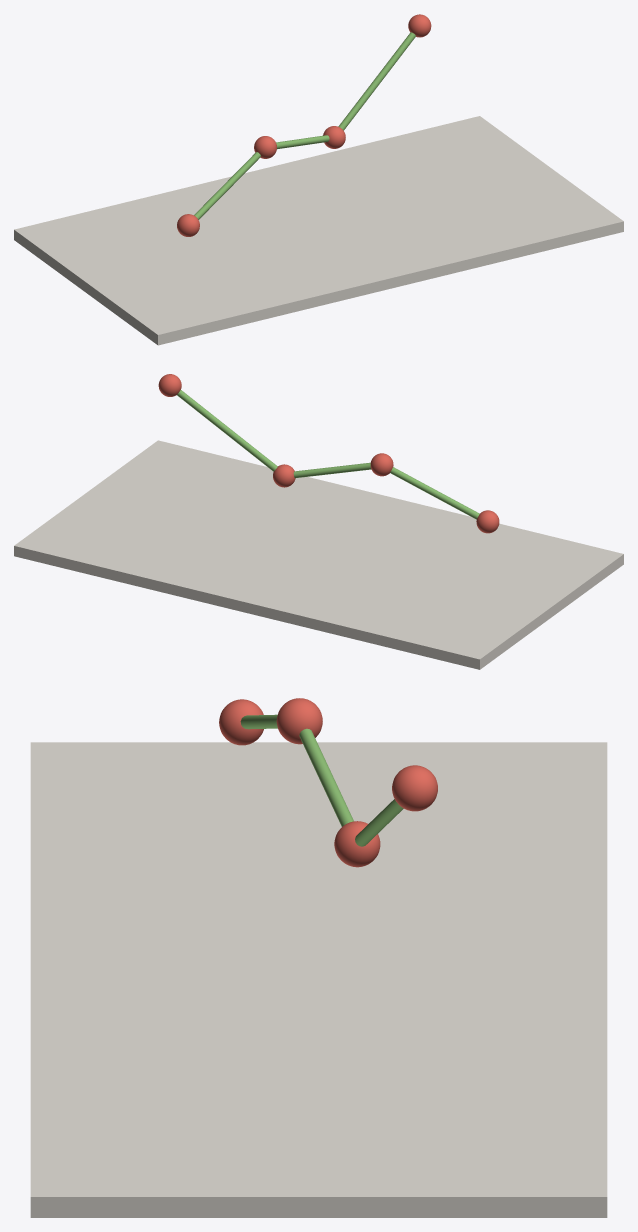
The model's file is math-data-line-graph.glb.
3 renders of one model, top to bottom at view 1: azimuth 30°, elevation 25°; view 2: azimuth 150°, elevation 25°; view 3: azimuth 270°, elevation 25°, orthographic. The views are drawn at different scales.
Parts seen in each view (by area): view 1: manipulative-base, trend-segment-3, trend-segment-1; view 2: manipulative-base, trend-segment-3, trend-segment-1, trend-segment-2, data-dot-1, data-dot-2, data-dot-4, data-dot-3; view 3: manipulative-base, data-dot-4, data-dot-2, trend-segment-2, data-dot-3, data-dot-1, trend-segment-3.
Part boxes in pixels (<box>): manipulative-base: <box>14,116,623,345</box>; trend-segment-3: <box>338,32,415,130</box>; trend-segment-1: <box>194,152,260,219</box>; manipulative-base: <box>14,440,623,669</box>; trend-segment-3: <box>177,390,277,471</box>; trend-segment-1: <box>390,467,479,519</box>; trend-segment-2: <box>293,462,371,478</box>; data-dot-1: <box>476,510,499,533</box>; data-dot-2: <box>370,453,393,476</box>; data-dot-4: <box>158,374,181,396</box>; data-dot-3: <box>273,464,295,487</box>; manipulative-base: <box>30,742,607,1217</box>; data-dot-4: <box>392,765,437,811</box>; data-dot-2: <box>276,698,322,744</box>; trend-segment-2: <box>299,728,353,826</box>; data-dot-3: <box>334,821,380,867</box>; data-dot-1: <box>219,699,263,745</box>; trend-segment-3: <box>355,799,403,846</box>.
Size of what is drawn, in the model's own units: 2.8 by 0.99 by 1.5.
